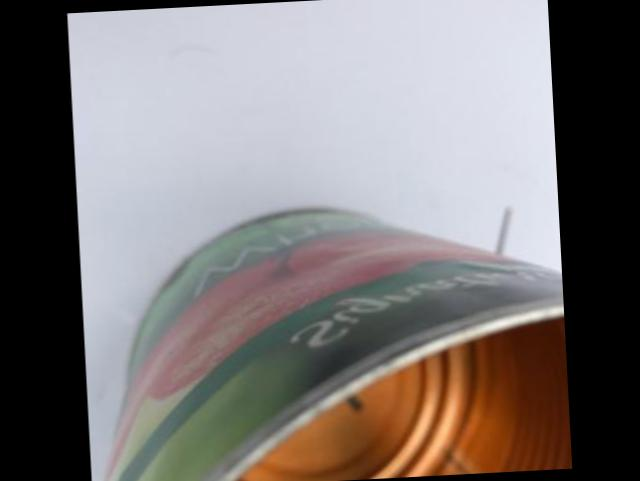metal: (111, 210, 573, 481)
